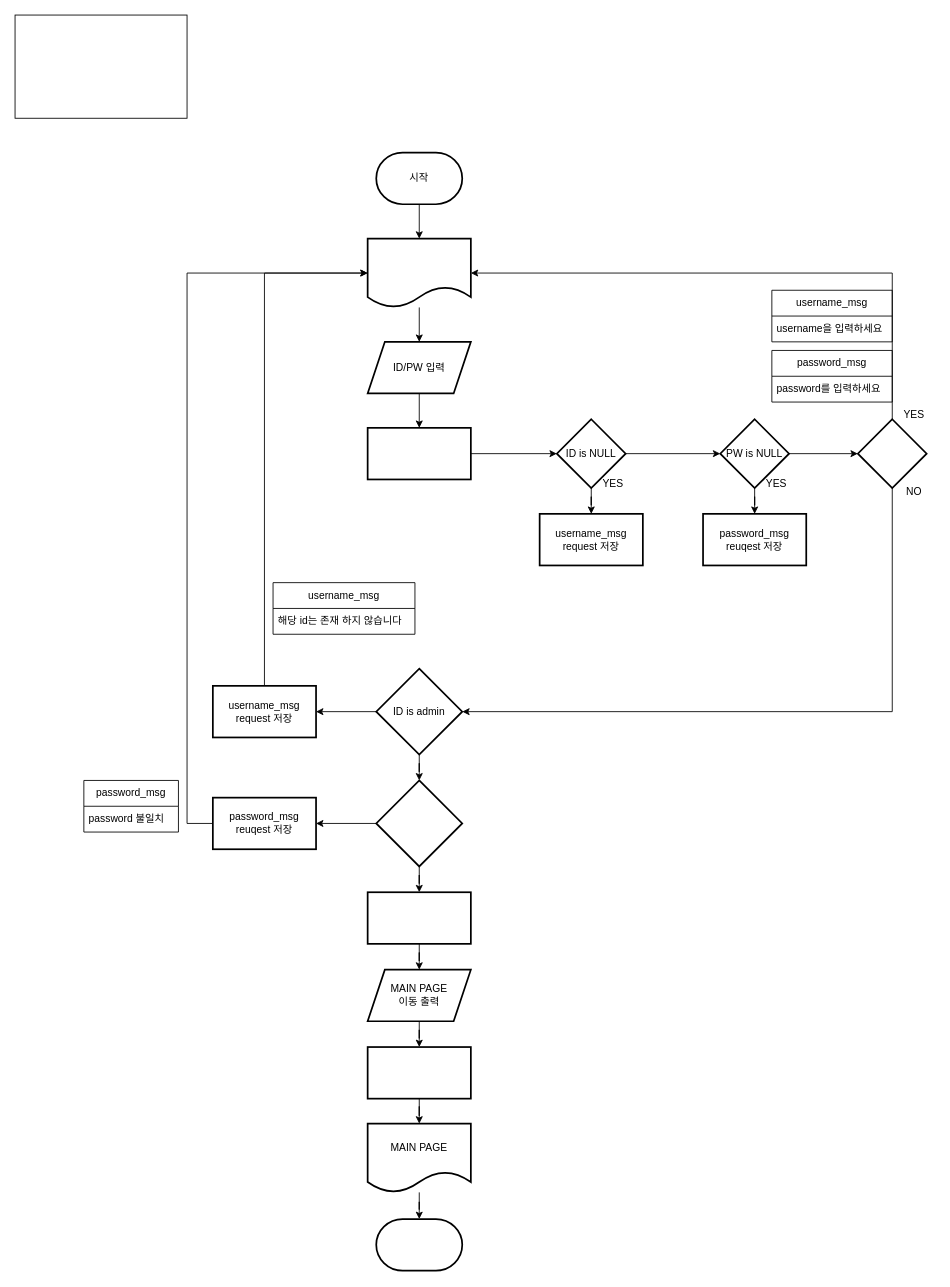
Some shapes in this 950 by 1287 pixel diagram are drawn without their labels. The shapes that lost their labels are listed below. From the top down, each one's centre as x and y in pixels, then its label:
At [100,66]: "로그인 PROCESS".
At [418,272]: "로그인 폼 (login_form.jsp)".
At [418,453]: "유효성 검사 (login.jsp)".
At [892,453]: "ID is NULL or PW is NULL".
At [419,823]: "PW is 1234".
At [418,917]: "사용자 정보를 저장 isAuth / Rolle".
At [418,1072]: "MAIN PAGE 이동".
At [419,1244]: "종료".
